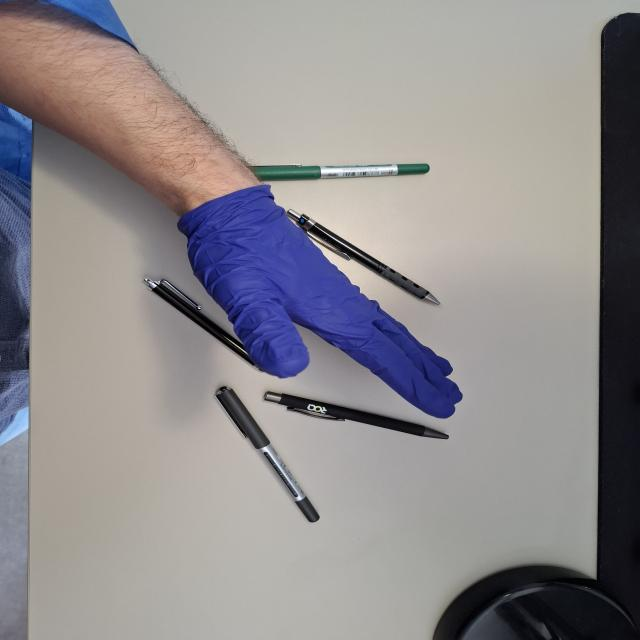glove_on: (172, 180, 468, 421)
